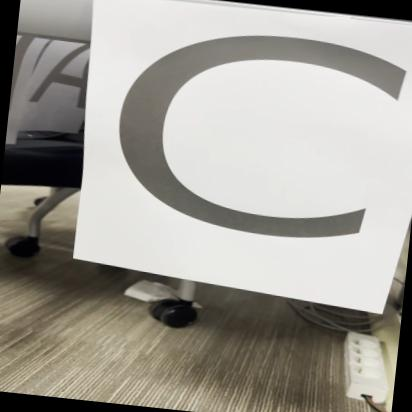seat: (72, 0, 412, 317)
